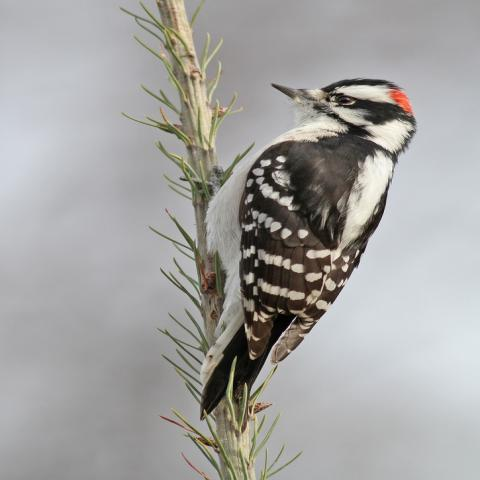bird: (195, 76, 417, 420)
